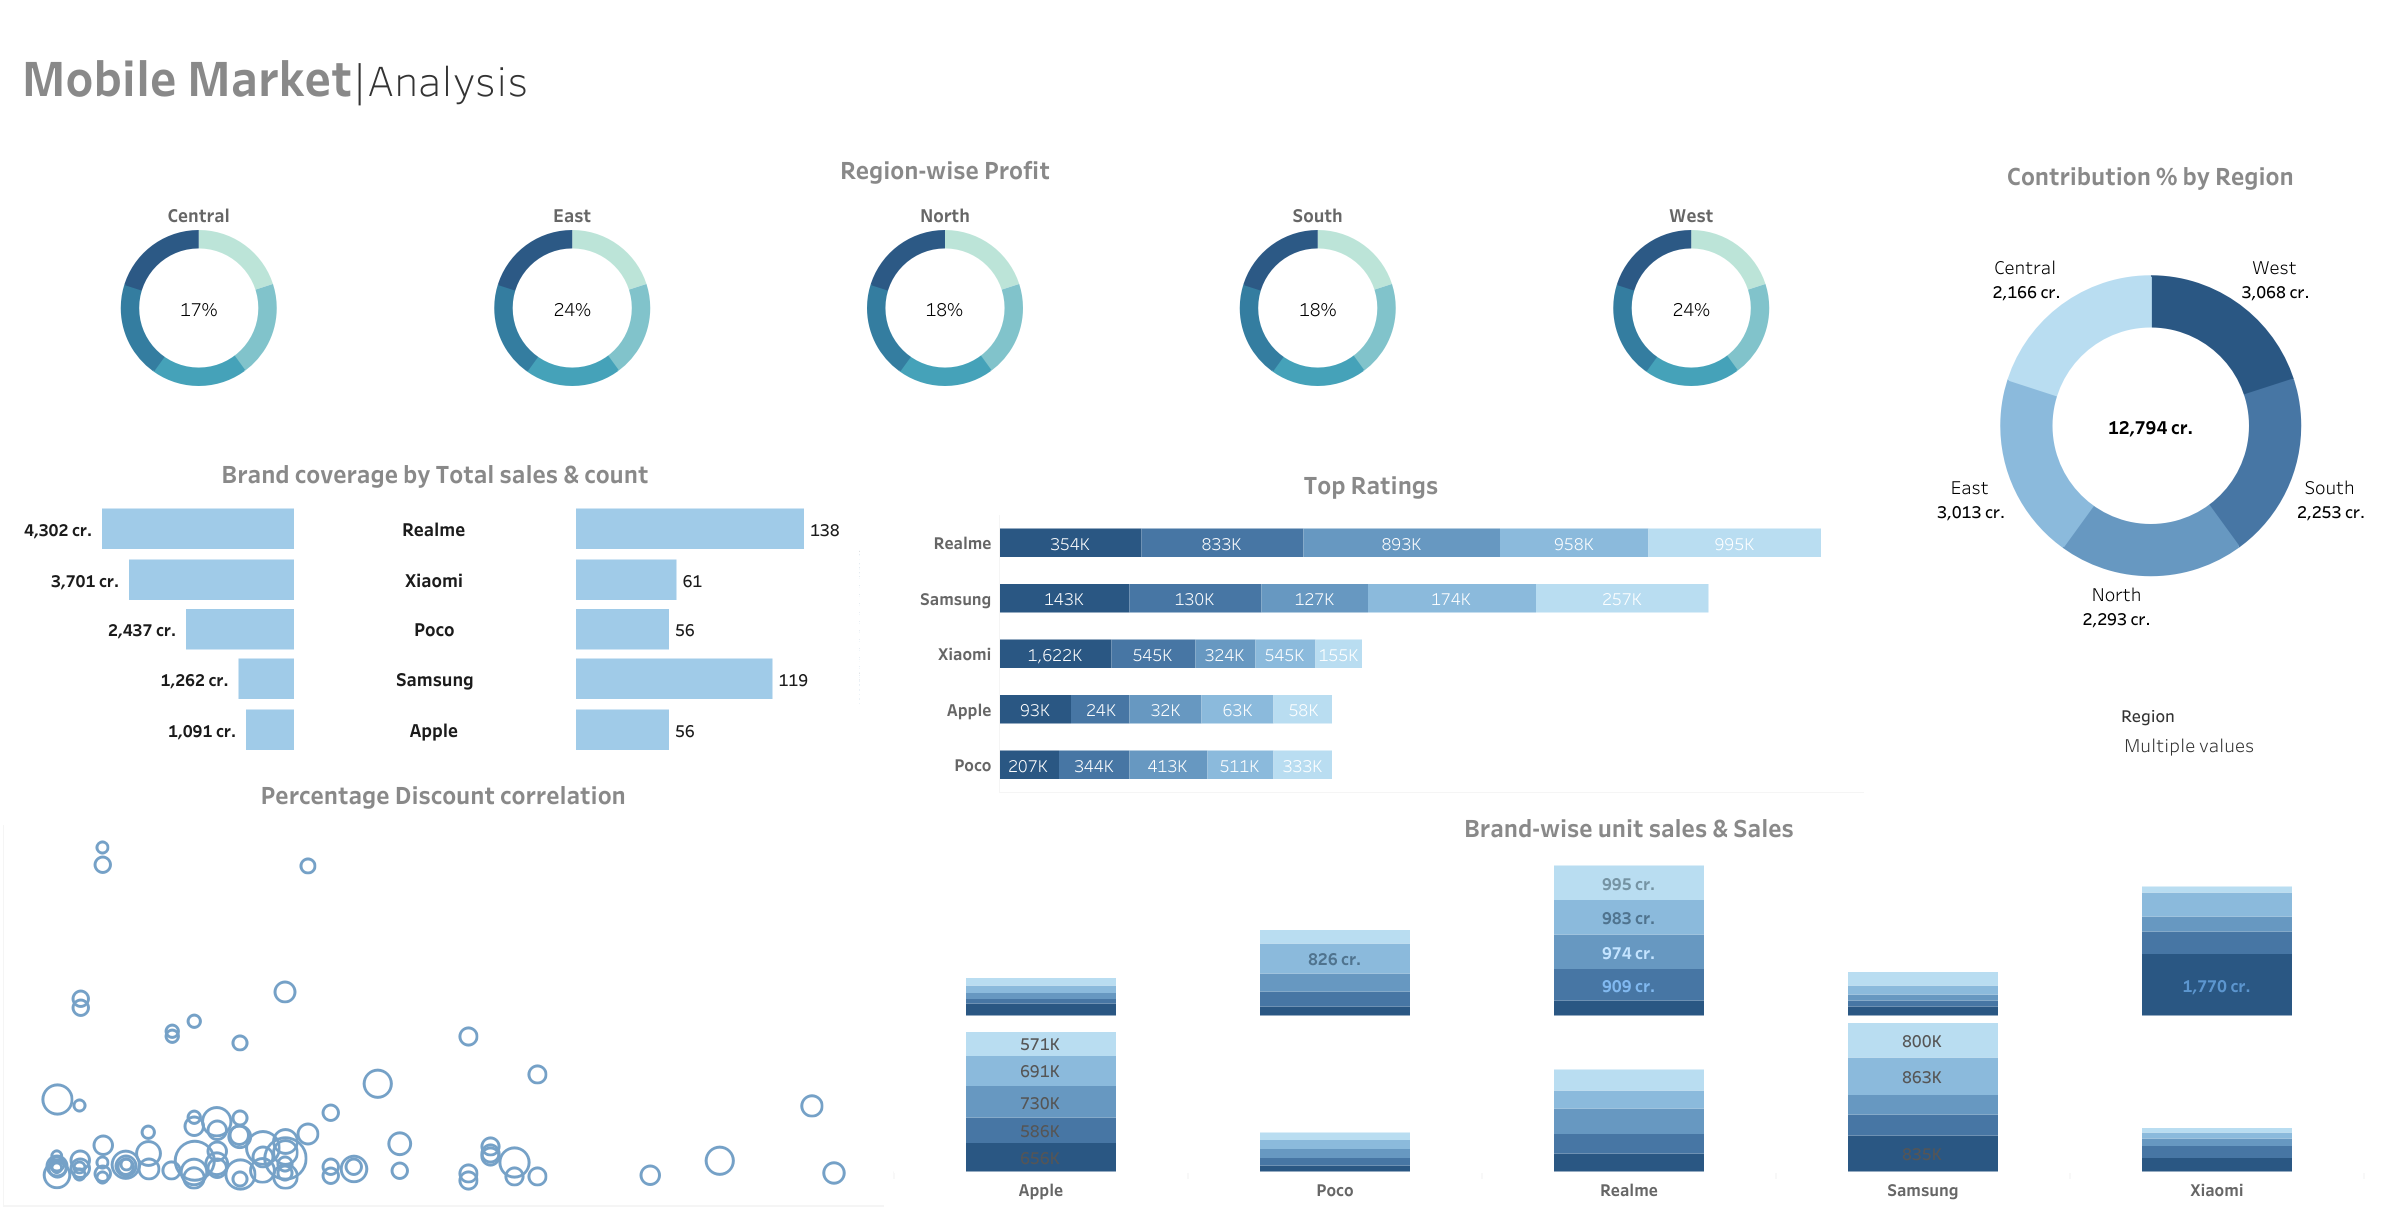

What the dashboard file says about the page in this screenshot:
{"tool":"tableau","page":{"name":"Dashboard 1","canvas":[1000,1000],"units":"permille","ordinal":0},"visuals":[{"type":"text","box":[4.2,7.7,991.7,72.8]},{"type":"worksheet","title":"Contribution % by Region","mark":"Pie","cols":["Calculation_1021191258162610186","Calculation_1021191258162622476"],"box":[783,22.3,209.5,461.5]},{"type":"worksheet","title":"Region-wise Profit","mark":"Pie","cols":["Region","Calculation_1021191257784696833","Calculation_1021191257784696833"],"box":[5,85.6,775.6,259.3]},{"type":"worksheet","title":"Top Ratings","mark":"Automatic","rows":["brand"],"cols":["ratings"],"box":[365.3,346.2,409,308.9]},{"type":"worksheet","title":"Brand Coverage by sales & count","mark":"Automatic","rows":["brand"],"cols":["sales cr.","Calculation_1021191258159489032","sales_price/Unit"],"box":[5,377.2,318,229.5]},{"type":"filter","title":"Brand Coverage by sales & count","param":"[federated.1f73cht0sdqx011as8jxa0cktls8].[none:Region:nk]","box":[876.6,507.4,99.8,284.1]},{"type":"worksheet","title":"Sales/unit - Percentage Discount correlation ","mark":"Automatic","rows":["sales_price/Unit"],"cols":["discount_percent"],"box":[1.2,635.2,366,362.3]},{"type":"worksheet","title":"Brand-wise unit sales & Sales","mark":"Bar","rows":["sales cr.","sales_price/Unit"],"cols":["brand"],"box":[371.6,662.5,501.9,331.3]}]}

Visuals, with their boxes on the dashboard's canvas, which has no fixed pixel size, in thousandths of its width and height (x1, y1, x2, y2). These are canvas units, not pixel positions in the 2405x1208 screenshot, which may show the page scaled, cropped or inside an application window:
text: [4,8,996,80]
"Contribution % by Region" worksheet (Pie marks): [783,22,992,484]
"Region-wise Profit" worksheet (Pie marks): [5,86,781,345]
"Top Ratings" worksheet: [365,346,774,655]
"Brand Coverage by sales & count" worksheet: [5,377,323,607]
"Brand Coverage by sales & count" filter: [877,507,976,792]
"Sales/unit - Percentage Discount correlation " worksheet: [1,635,367,998]
"Brand-wise unit sales & Sales" worksheet (Bar marks): [372,662,874,994]
